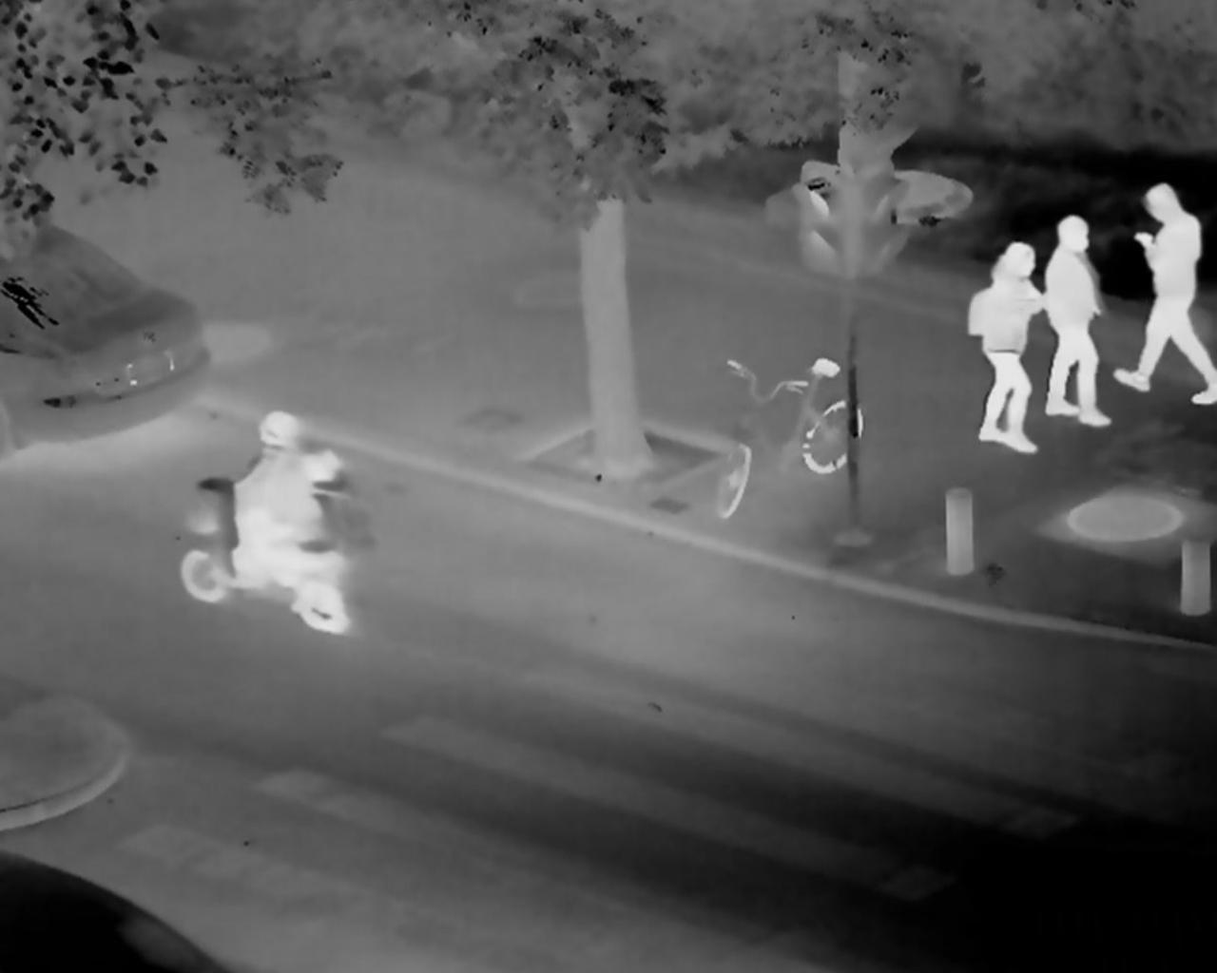person: (1121, 181, 1217, 406), (961, 238, 1042, 452), (1040, 214, 1111, 430), (218, 408, 297, 601), (281, 447, 372, 612)
